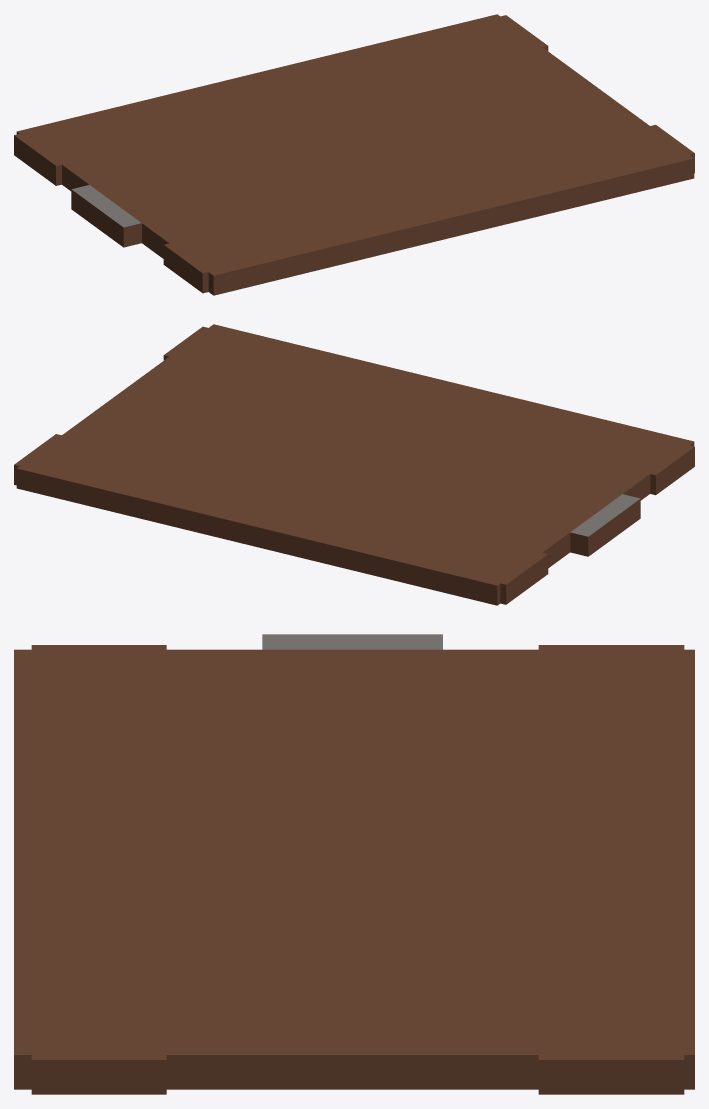
File: Tribunal_Sol.fbx
3 renders of one model, top to bottom at view 1: azimuth 30°, elevation 25°; view 2: azimuth 150°, elevation 25°; view 3: azimuth 270°, elevation 25°, orthographic. The views are drawn at different scales.
Parts seen in each view (by area): view 1: Sol; view 2: Sol; view 3: Sol.
Part boxes in pixels (x1,y1,x2,y2): Sol: (14, 14, 694, 295); Sol: (14, 324, 694, 605); Sol: (14, 634, 694, 1094).
Bounding box in the file's own units: 14.24 × 0.5404 × 9.63.
